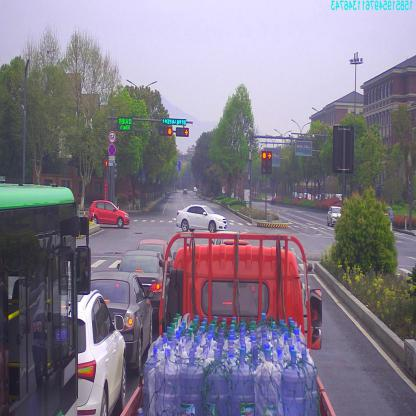traffic-light: (161, 117, 187, 125), (174, 126, 189, 136), (162, 128, 172, 135)
